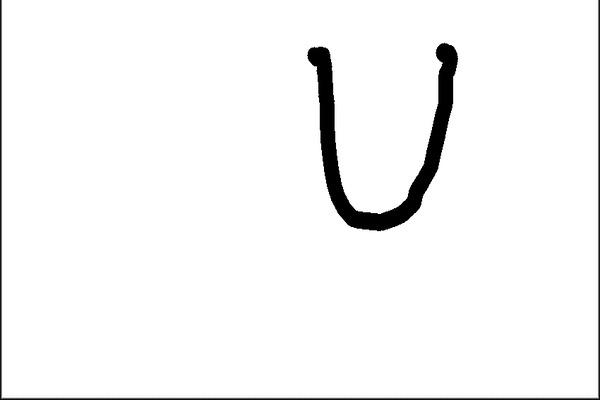U: (294, 38, 464, 235)
